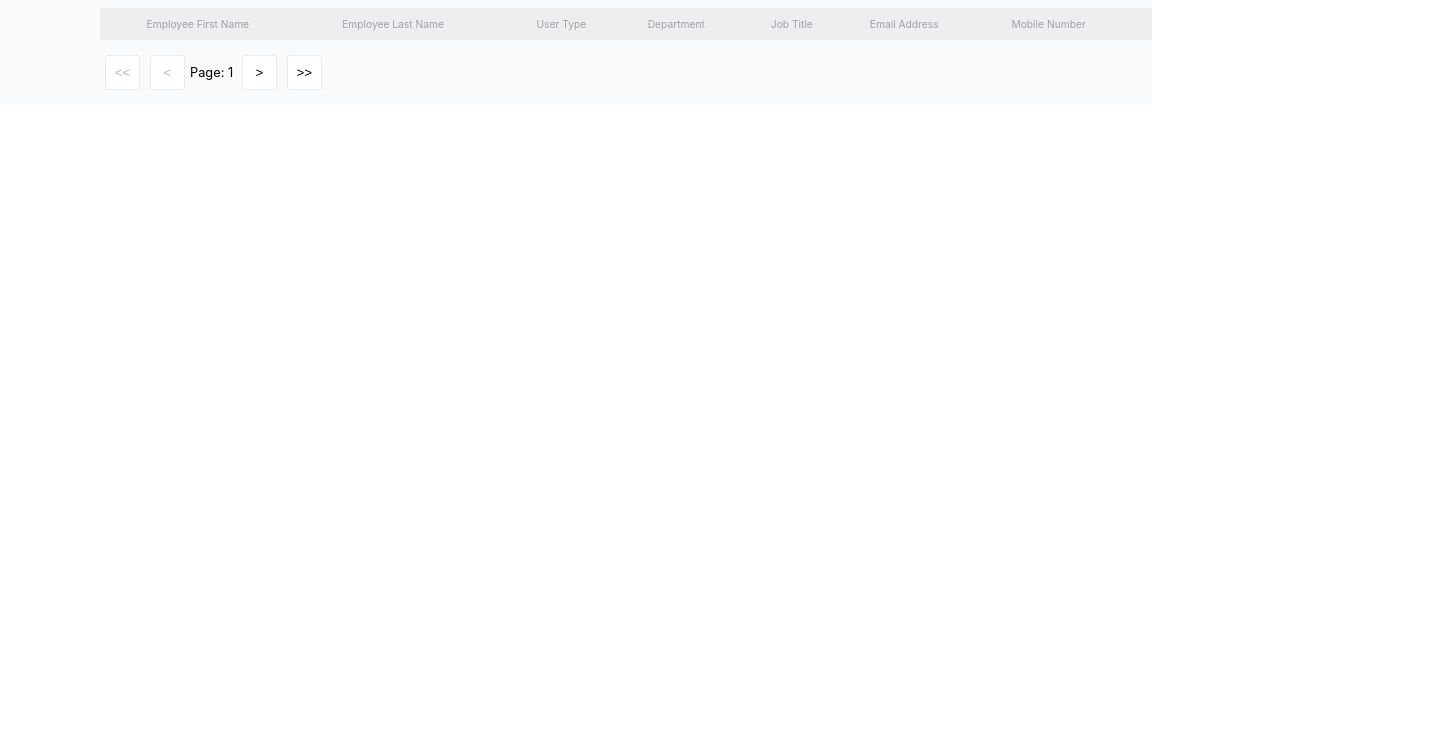
<EmployeeList/> testing user interaction › should go to next page once > button is clicked
This screenshot has width=1440, height=752.
Click the button with test id "pageUpButton": (259, 72) 242,55 -> 277,90
(page scrolled)
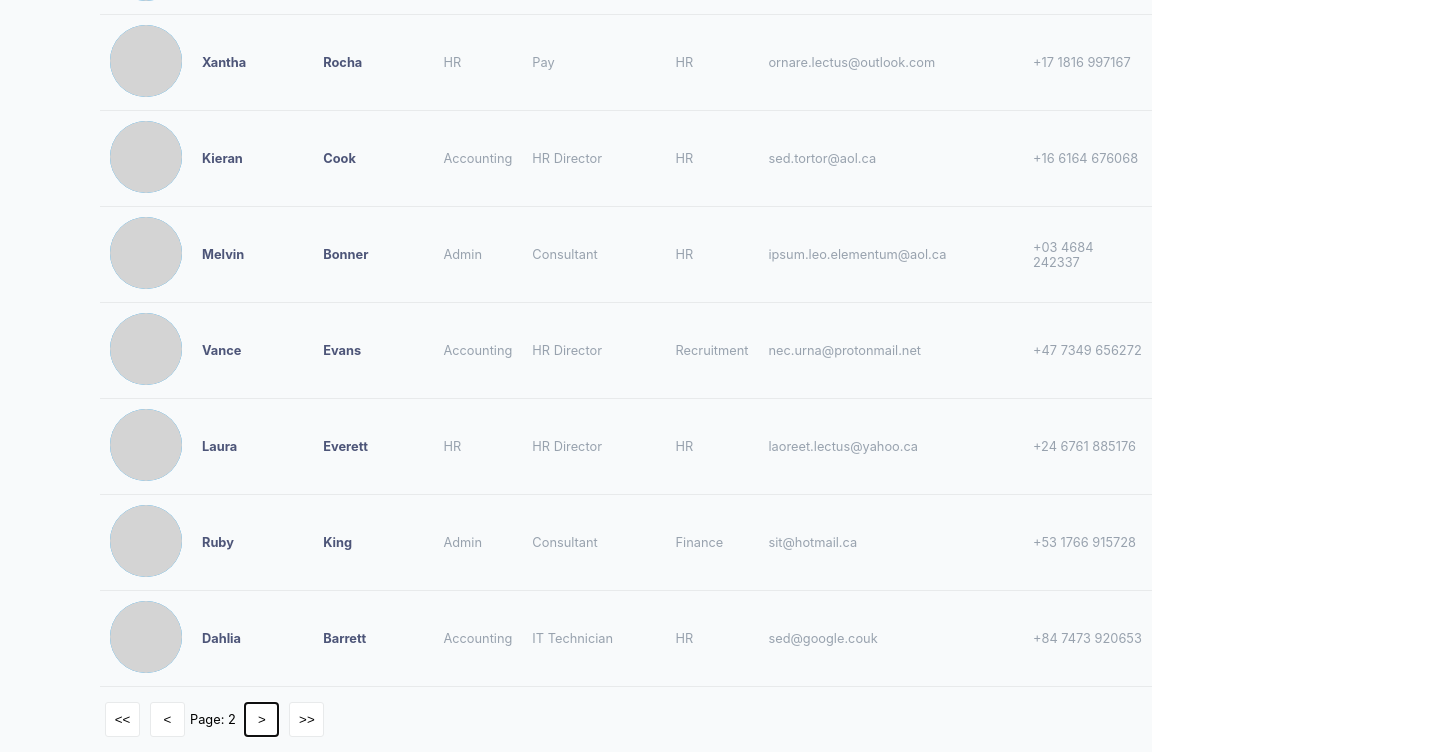
expect the text "Page: 2" is shown: met, box 190,712 -> 239,727
